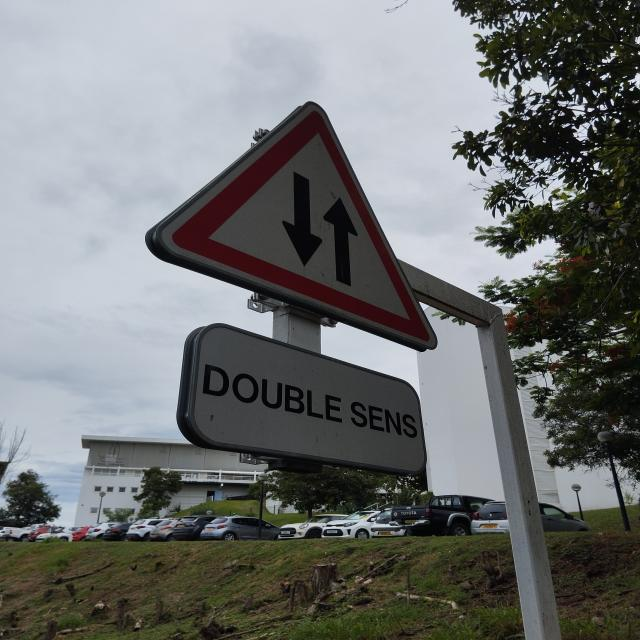Double-Sens: (127, 99, 447, 353)
